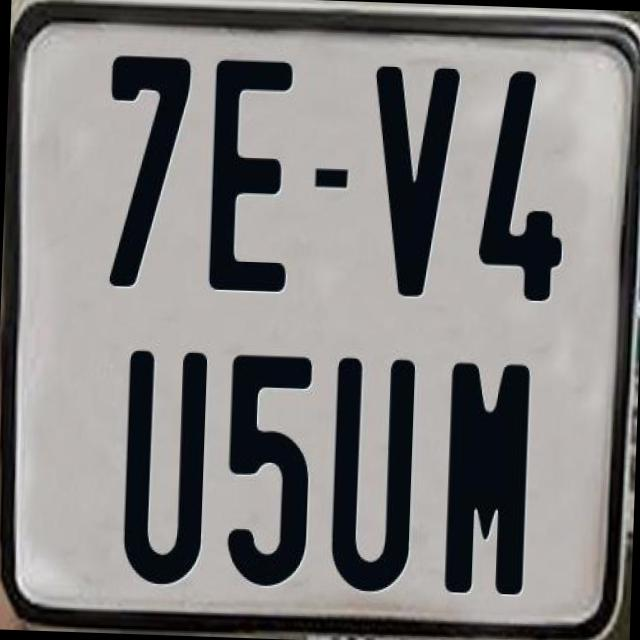4: (477, 64, 569, 298)
5: (221, 352, 309, 588)
7: (101, 51, 192, 286)
E: (208, 55, 300, 295)
M: (442, 358, 528, 600)
U: (325, 352, 416, 594), (120, 346, 208, 588)
V: (368, 66, 466, 300)
